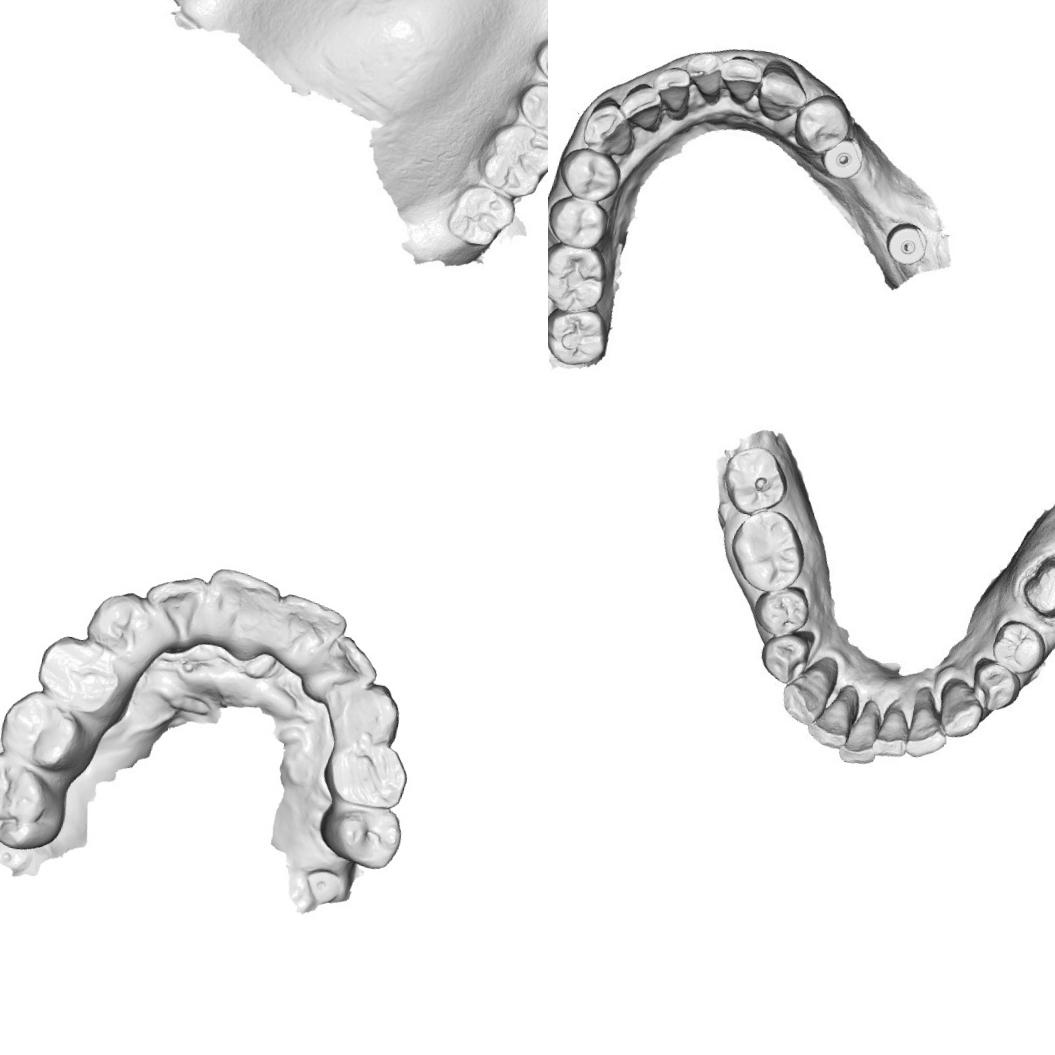canine: (79, 582, 160, 669), (325, 674, 408, 753), (775, 660, 836, 734), (752, 57, 812, 126), (579, 94, 642, 156), (936, 680, 984, 740)
crown: (1016, 551, 1055, 625)
implant: (816, 132, 867, 182), (881, 218, 930, 268)
incisor: (196, 562, 286, 651), (137, 566, 213, 657), (300, 628, 385, 708), (266, 587, 352, 664), (836, 696, 887, 770), (805, 682, 858, 752), (902, 691, 952, 765), (615, 78, 667, 134), (679, 48, 728, 106), (647, 63, 696, 121), (714, 52, 764, 106), (874, 702, 913, 760)
molar: (722, 502, 812, 596), (0, 746, 69, 857), (439, 175, 522, 257), (476, 117, 548, 205), (548, 238, 612, 318), (548, 300, 612, 371)
premolar: (28, 627, 123, 722), (0, 681, 90, 775), (316, 732, 415, 814), (310, 794, 407, 874), (716, 440, 796, 521), (788, 88, 854, 160), (554, 142, 625, 204), (746, 578, 814, 642), (548, 191, 612, 252), (986, 615, 1046, 678), (756, 628, 814, 690), (970, 658, 1024, 712), (516, 76, 548, 143), (529, 30, 548, 93)
